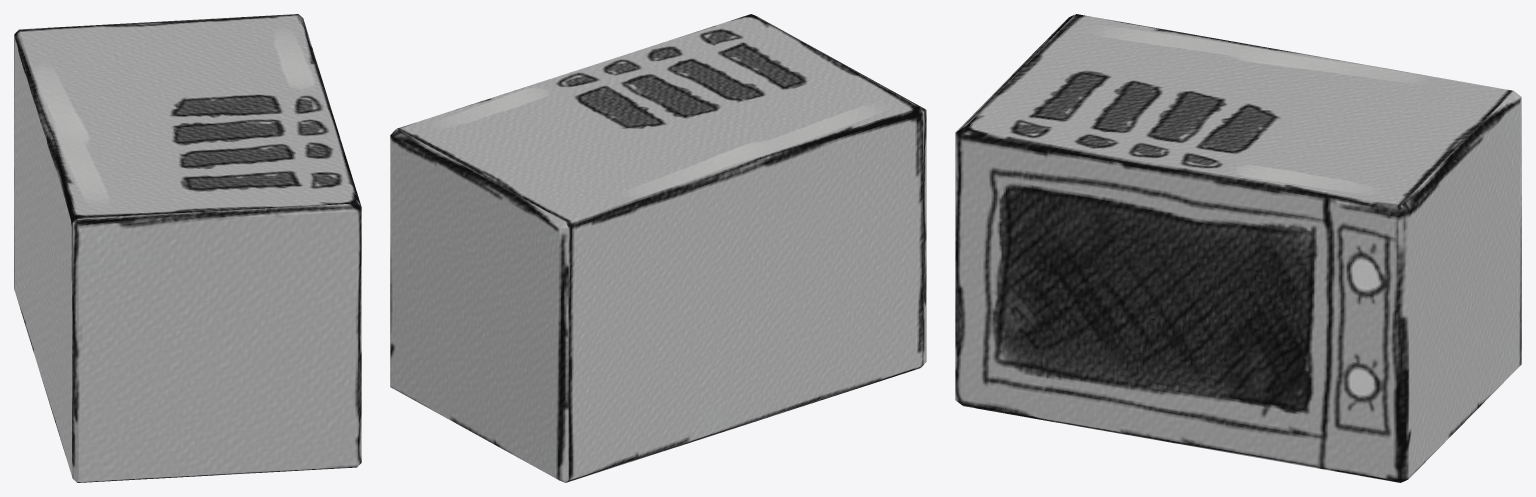
The model's file is detail_microwave.glb.
3 renders of one model, left to right at view 1: azimuth 30°, elevation 25°; view 2: azimuth 150°, elevation 25°; view 3: azimuth 270°, elevation 25°, orthographic. The views are drawn at different scales.
Visible parts, largest first — view 1: Micro; view 2: Micro; view 3: Micro.
Boxes of the visible parts, x1,y1,x2,y2 form: Micro: [14, 14, 361, 482]; Micro: [390, 14, 926, 482]; Micro: [955, 14, 1521, 482].
Bounding box in the file's own units: 0.0387 × 0.0255 × 0.0472.
Materials: 1 (1 with a texture image).
